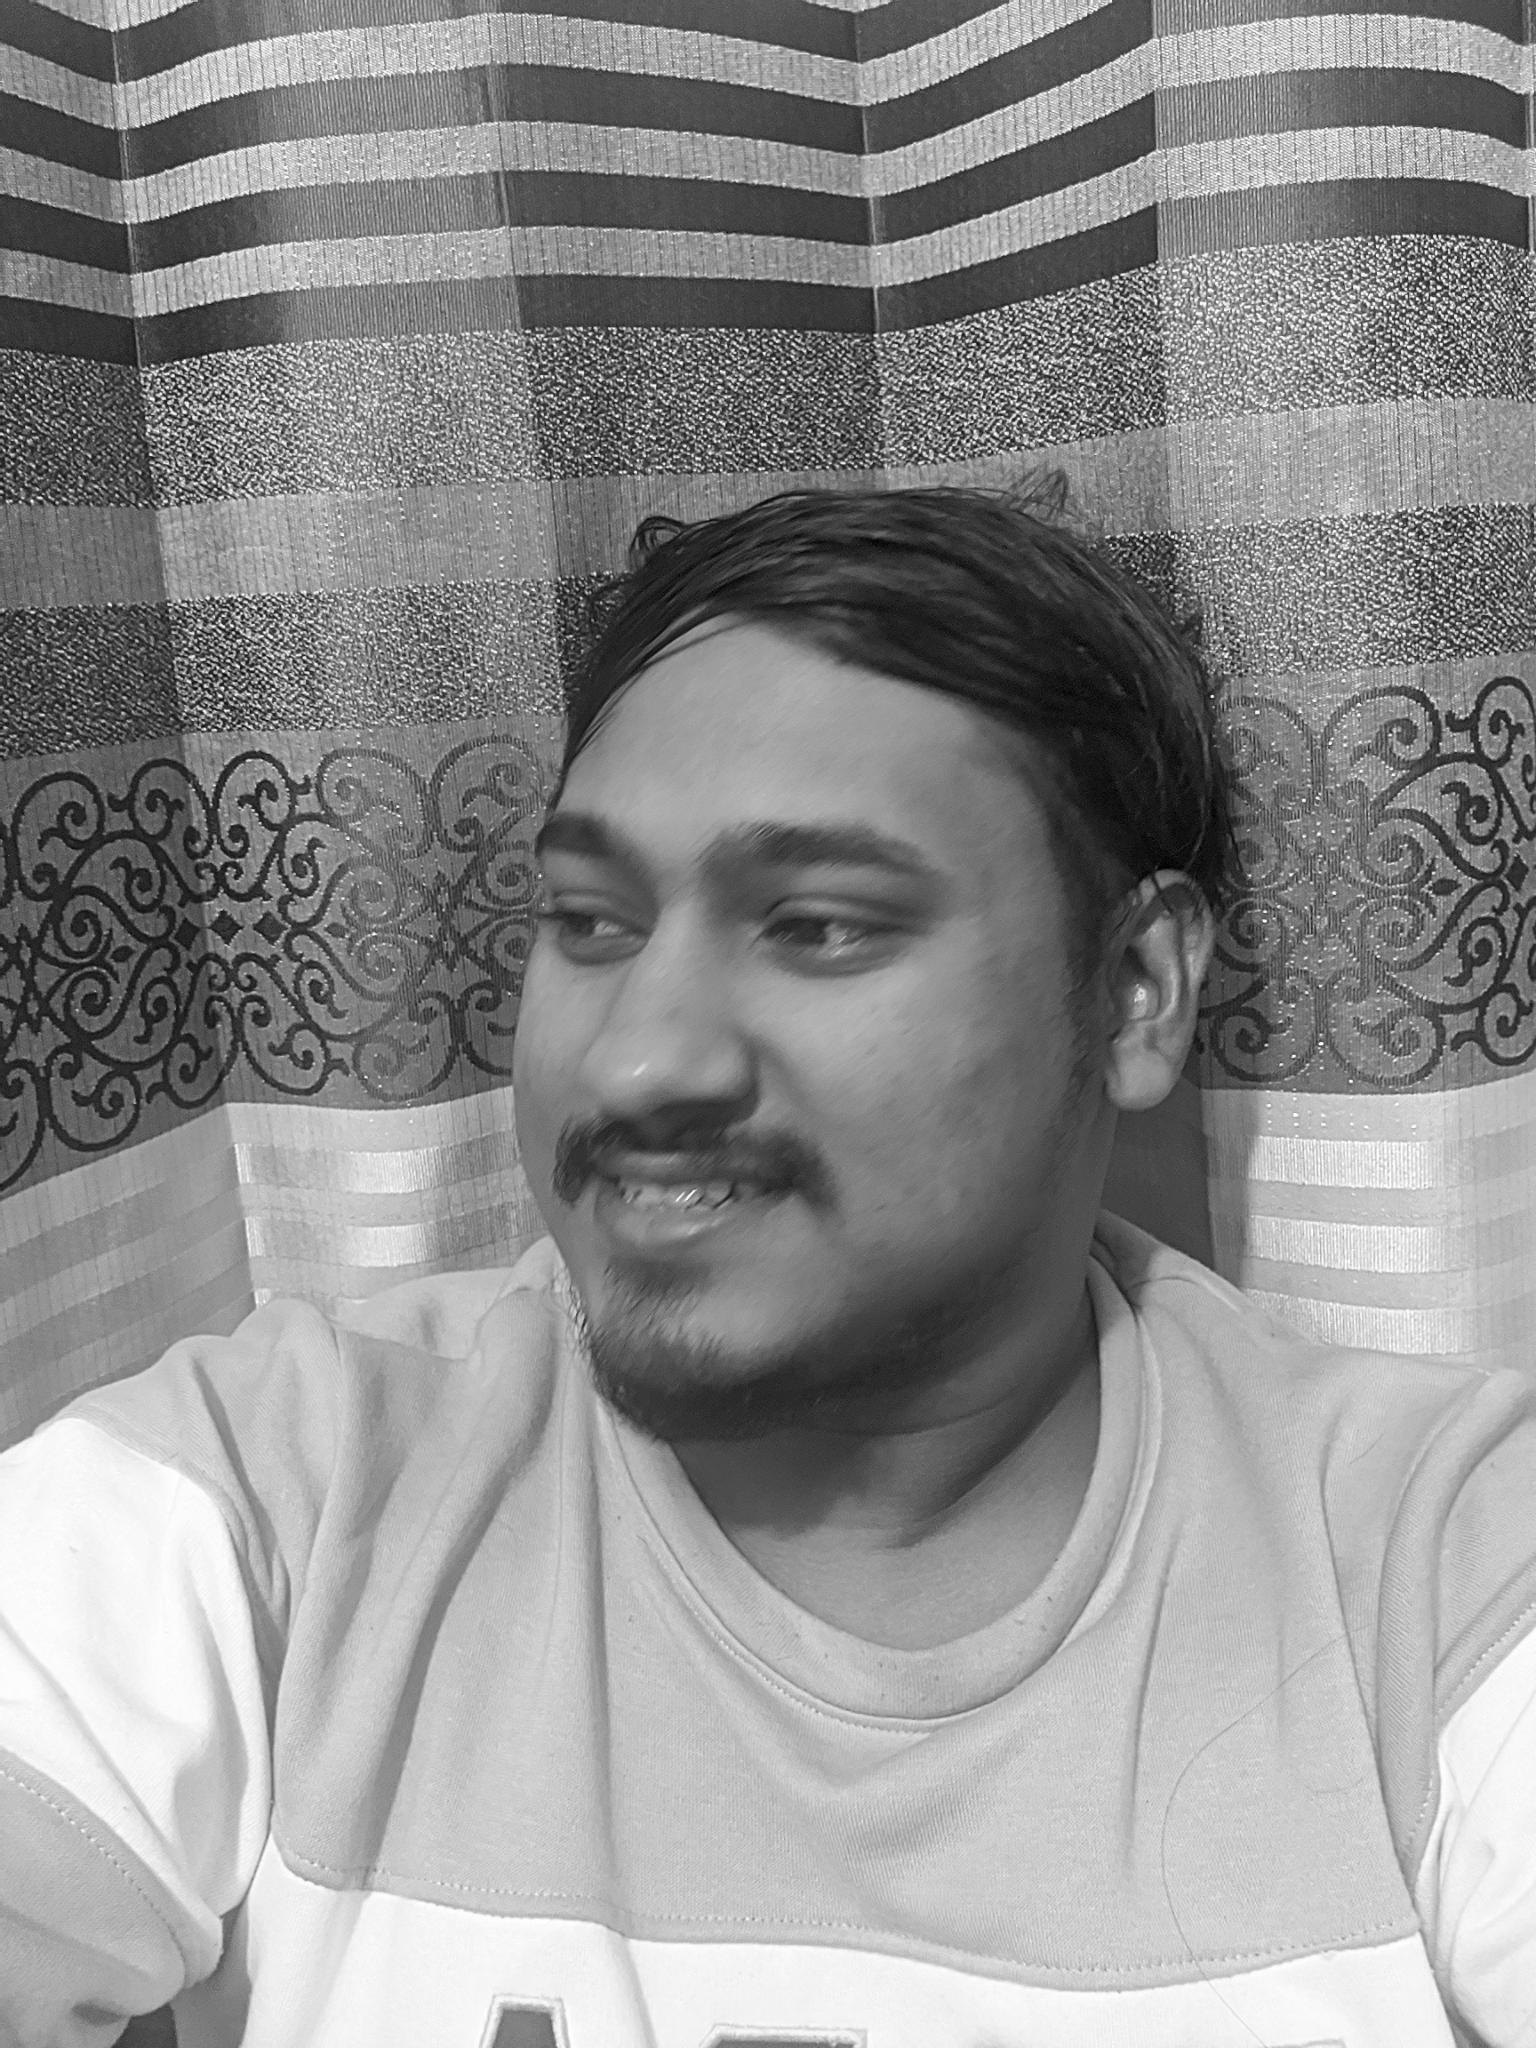Happy: (458, 693, 1055, 1417)
